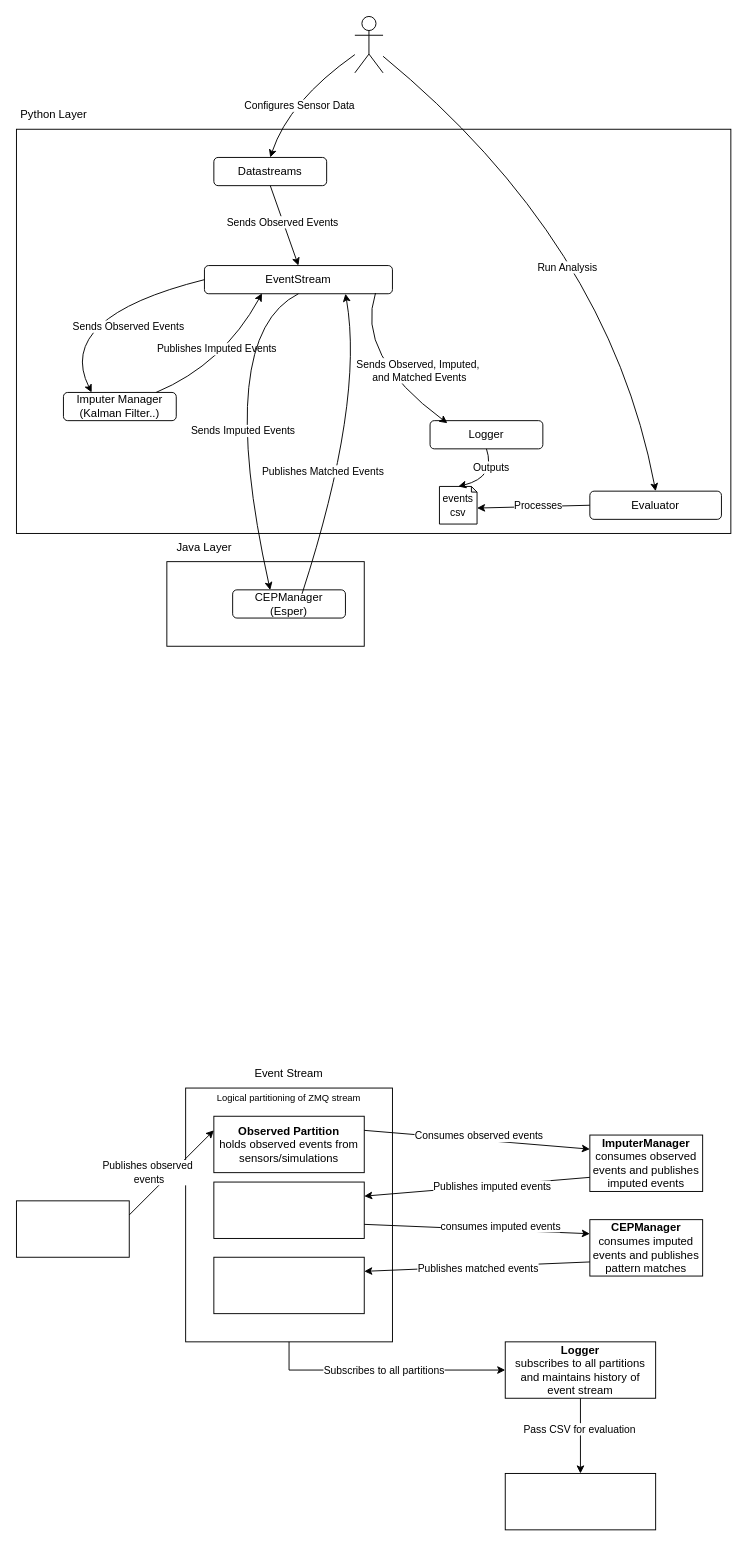
Some shapes in this 747 by 1546 pixel diagram are drawn without their labels. Each missing label, with the centre of its shape:
Evaluator reads logs and computes metrics (RMSE, MAE, accuracy): pixel 580 1501
Imputed Partition holds events with missing data filled: pixel 288 1209
Matched Partition holds events annotated with detected pattern matches: pixel 288 1285
Researcher: pixel 368 44
Stream Manager produces observed events: pixel 72 1228
